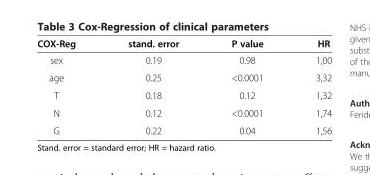table: (36, 37, 331, 135)
table column: (101, 37, 204, 135), (204, 37, 288, 135), (36, 37, 101, 135), (288, 37, 331, 135)
table column header: (36, 37, 331, 51)
table row: (36, 68, 331, 86), (36, 103, 331, 121), (36, 51, 331, 68), (36, 86, 331, 103), (36, 37, 331, 51), (36, 121, 331, 135)
